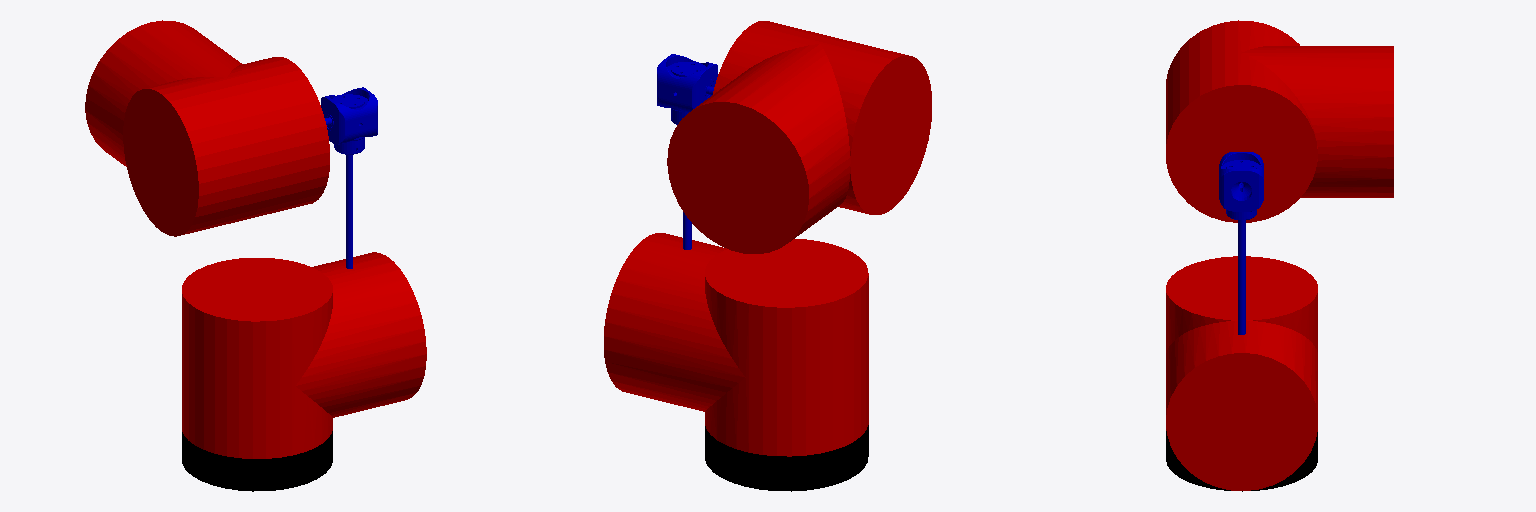
The robot description file, URDF, robot "node31":
<?xml version="1.0"?>
<robot  name="node31" >
 <material  name="blue" >
  <color  rgba="0 0 0.8 1.0" />
 </material>
 <material  name="red" >
  <color  rgba="0.8 0 0 1.0" />
 </material>
 <material  name="black" >
  <color  rgba="0.0 0.0 0.0 1.0" />
 </material>
 <link  name="root_mod" >
  <visual >
   <origin  rpy="0 0 0"  xyz="0 0 0" />
   <material  name="black" />
   <geometry >
    <cylinder  length="0.02"  radius="0.05" />
   </geometry>
  </visual>
 </link>
 <link  name="jointMod_1" >
  <visual >
   <origin  rpy="1.5707963267948963 0.0 0.0"  xyz="0.0 7.771561172376096e-19 0.0035" />
   <material  name="red" />
   <geometry >
    <mesh  filename="./meshes/j_module.obj"  scale="0.001 0.001 0.001" />
   </geometry>
  </visual>
 </link>
 <joint  type="revolute"  name="joint_1_revolute" >
  <parent  link="root_mod" />
  <child  link="jointMod_1" />
  <origin  rpy="0 0 0"  xyz="0.0 0.0 0.01" />
  <axis  xyz="0.0 0.0 1.0" />
 </joint>
 <transmission  name="act_joint_1_revolute" >
  <type  xmltext="SimpleTransmission" >
   SimpleTransmission
  </type>
  <actuator  name="act_joint_1_revolute" >
   <mechanicalreduction  xmltext="1" >
    1
   </mechanicalreduction>
  </actuator>
  <joint  name="joint_1_revolute" />
 </transmission>
 <link  name="linkMod_2" >
  <visual >
   <origin  rpy="1.5707963240855651 -1.2497703982816688e-08 -3.141592641092089"  xyz="0.03999999999999998 4.999081662324221e-10 -4.999081648780052e-10" />
   <material  name="blue" />
   <geometry >
    <mesh  filename="./meshes/l1_module.obj"  scale="0.001 0.001 0.001" />
   </geometry>
  </visual>
 </link>
 <joint  type="revolute"  name="joint_2_revolute" >
  <parent  link="jointMod_1" />
  <child  link="linkMod_2" />
  <origin  rpy="0 0 0"  xyz="0.03 -0.0002999999999999882 0.053000000000000005" />
  <axis  xyz="1.0 0.0 0.0" />
 </joint>
 <transmission  name="act_joint_2_revolute" >
  <type  xmltext="SimpleTransmission" >
   SimpleTransmission
  </type>
  <actuator  name="act_joint_2_revolute" >
   <mechanicalreduction  xmltext="1" >
    1
   </mechanicalreduction>
  </actuator>
  <joint  name="joint_2_revolute" />
 </transmission>
 <link  name="jointMod_3" >
  <visual >
   <origin  rpy="0.0 0.0 1.5707963267948963"  xyz="-0.0035 7.771561172376096e-19 0.0" />
   <material  name="red" />
   <geometry >
    <mesh  filename="./meshes/j_module.obj"  scale="0.001 0.001 0.001" />
   </geometry>
  </visual>
 </link>
 <joint  type="fixed"  name="joint_3_fixed" >
  <parent  link="linkMod_2" />
  <child  link="jointMod_3" />
  <origin  rpy="0 0 0"  xyz="1.9996326608429094e-09 -4.3349299788124236e-10 0.15999999999999995" />
  <axis  xyz="-1.0 -0.0 0.0" />
 </joint>
 <link  name="linkMod_4" >
  <visual >
   <origin  rpy="0.0 0.0 -1.5707963267948963"  xyz="-8.881784197001253e-18 0.04 0.0" />
   <material  name="blue" />
   <geometry >
    <mesh  filename="./meshes/l2_module.obj"  scale="0.001 0.001 0.001" />
   </geometry>
  </visual>
 </link>
 <joint  type="revolute"  name="joint_4_revolute" >
  <parent  link="jointMod_3" />
  <child  link="linkMod_4" />
  <origin  rpy="0 0 0"  xyz="-0.053 0.03000000000000001 0.0003" />
  <axis  xyz="0.0 1.0 0.0" />
 </joint>
 <transmission  name="act_joint_4_revolute" >
  <type  xmltext="SimpleTransmission" >
   SimpleTransmission
  </type>
  <actuator  name="act_joint_4_revolute" >
   <mechanicalreduction  xmltext="1" >
    1
   </mechanicalreduction>
  </actuator>
  <joint  name="joint_4_revolute" />
 </transmission>
 <link  name="eef" />
 <joint  type="fixed"  name="eef_joint" >
  <parent  link="linkMod_4" />
  <child  link="eef" />
  <origin  rpy="0 0 0"  xyz="0.148 0.040000000000000036 0.0" />
  <axis  xyz="1.0 0.0 0.0" />
 </joint>
</robot>

--- Facts derived from the render (not from the file) ---
The picture shows the robot from 3 angles, left to right: view 1: azimuth 30°, elevation 25°; view 2: azimuth 150°, elevation 25°; view 3: azimuth 270°, elevation 25°; orthographic projection.
Model node31 with 6 links and 5 joints (3 revolute, 2 fixed), rooted at root_mod, posed every joint at zero.
Visible links, largest first — view 1: jointMod_1, jointMod_3, root_mod, linkMod_2; view 2: jointMod_1, jointMod_3, root_mod, linkMod_2; view 3: jointMod_3, jointMod_1, linkMod_2, root_mod.
Link boxes in pixels (x1,y1,x2,y2): jointMod_1: (182, 252, 426, 458); jointMod_3: (85, 20, 329, 236); root_mod: (182, 431, 332, 491); linkMod_2: (321, 87, 377, 268); jointMod_1: (604, 233, 868, 456); jointMod_3: (667, 21, 931, 253); root_mod: (705, 425, 868, 491); linkMod_2: (657, 54, 717, 249); jointMod_3: (1166, 20, 1393, 222); jointMod_1: (1166, 256, 1317, 490); linkMod_2: (1219, 152, 1263, 334); root_mod: (1166, 431, 1317, 491).
Bounding box of the posed robot: 0.1735 × 0.1498 × 0.283 m (x, y, z).
3 mesh visuals loaded from 3 distinct referenced files (2 OBJ); not drawn: 1 (reference not matched to a file when rendering).